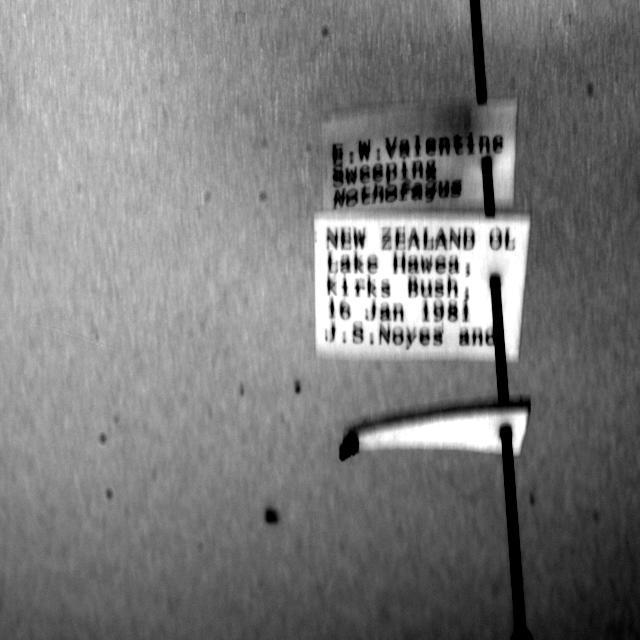typed_label: (314, 214, 530, 360), (322, 99, 518, 212)
